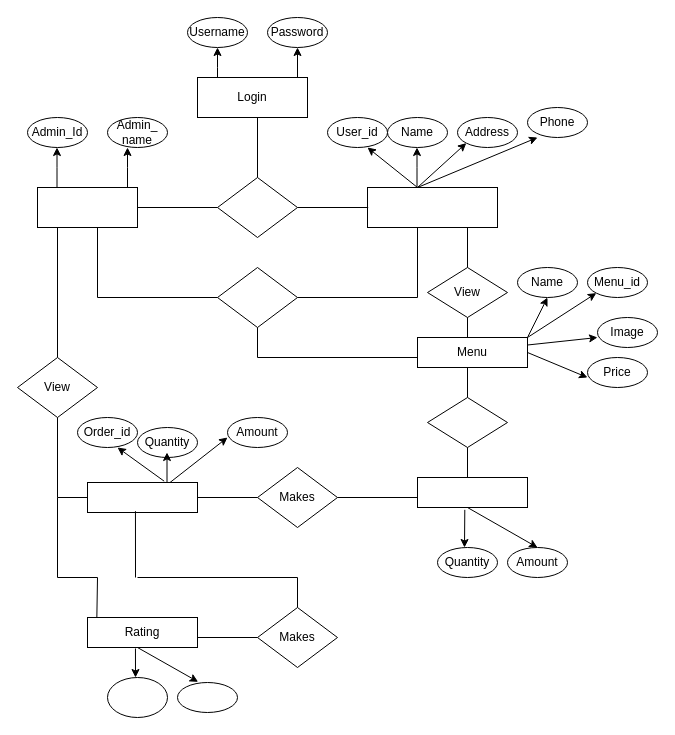
Some shapes in this 675 by 735 pixel diagram are drawn without their labels. The shapes that lost their labels are listed below. From the top down, each one's centre as x and y in pixels, then its label:
[87,207]: Admin
[257,207]: Has
[432,207]: User
[257,297]: Manage
[467,422]: Adds
[142,497]: Order
[472,492]: Cart
[137,697]: Rating_no
[207,697]: Feedback
